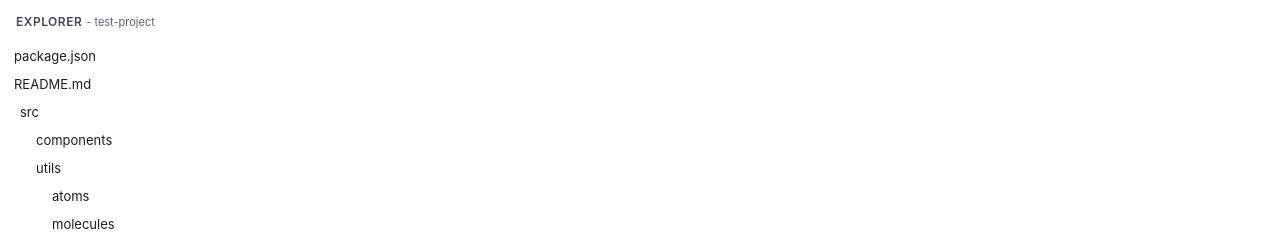
CodeSidebar.vue › should handle file selection
Note: Click on a file item
Click the element with class "file-item" showing "package.json": [55, 56] box [14,48,96,64]
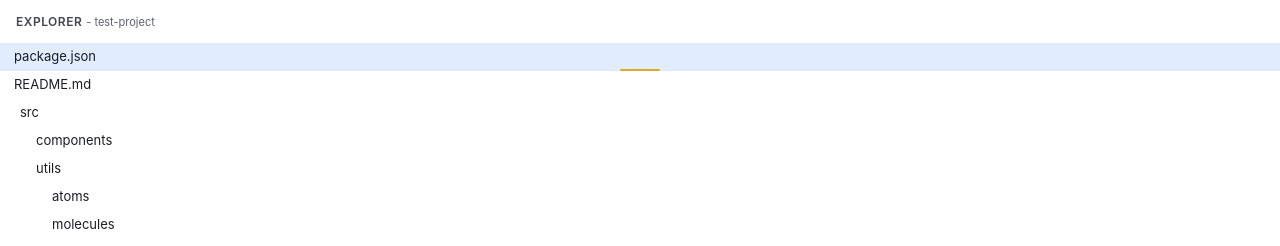
Result: the element with class "file-selected" is shown at [0,43,1279,71]
